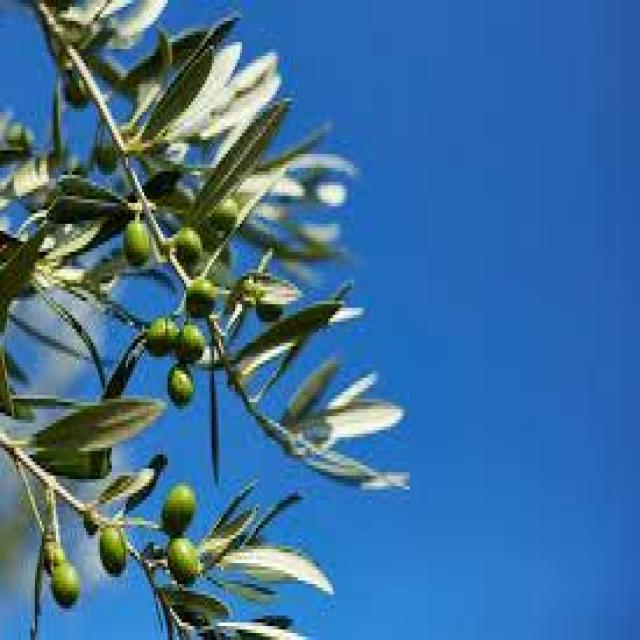Healthy: (162, 483, 197, 535), (163, 539, 200, 584), (123, 217, 151, 269), (98, 525, 126, 574)
